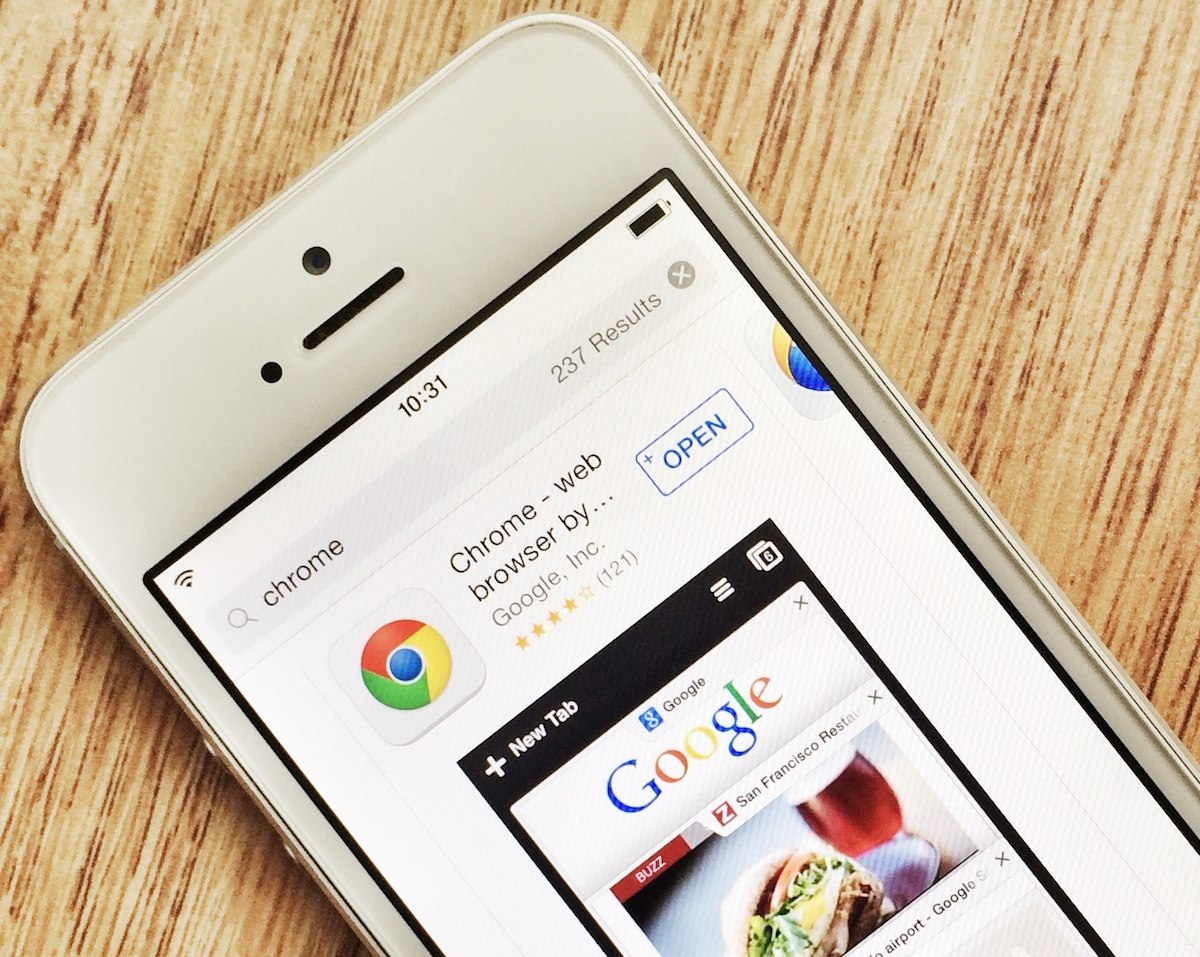Cell Phone: (52, 25, 1197, 957)
